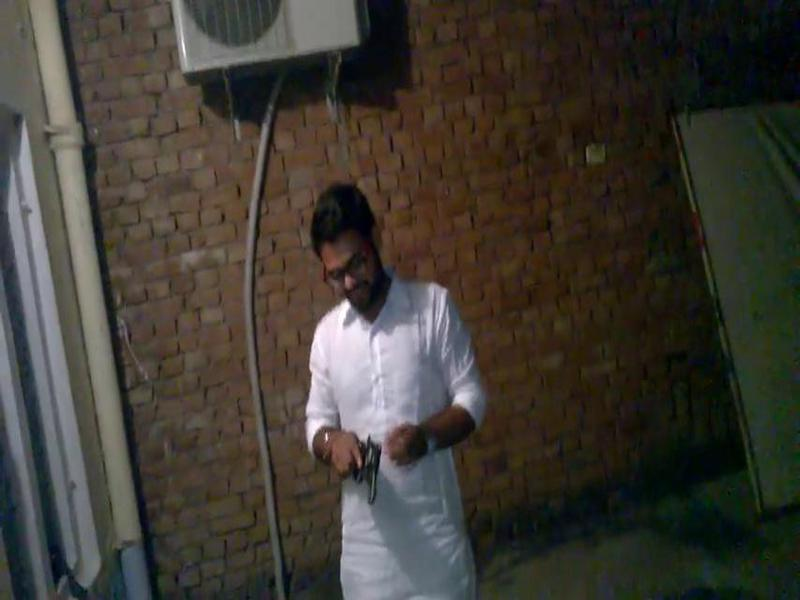Revolver: (331, 427, 399, 517)
